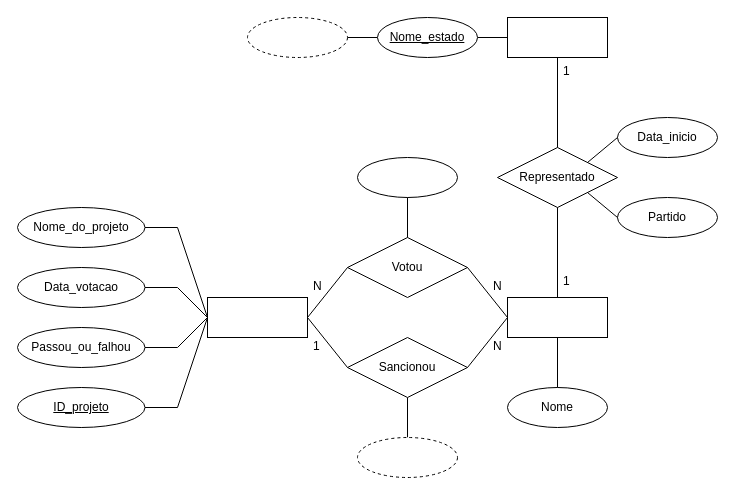
Image size: 735x495. Some labels were removed from this diagram. Here are the shapes that lost their labels. From the top down, the box of each, then its label:
(246, 16, 348, 58): Região
(506, 16, 608, 58): ESTADO
(356, 156, 458, 198): Voto_atribuido
(206, 296, 308, 338): PROJETO_LEI
(506, 296, 608, 338): DEPUTADO
(356, 436, 458, 478): Attribute
